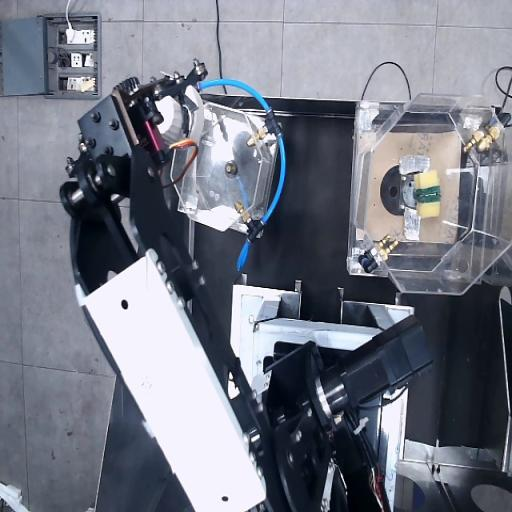cup in rinse station: (156, 86, 203, 144)
